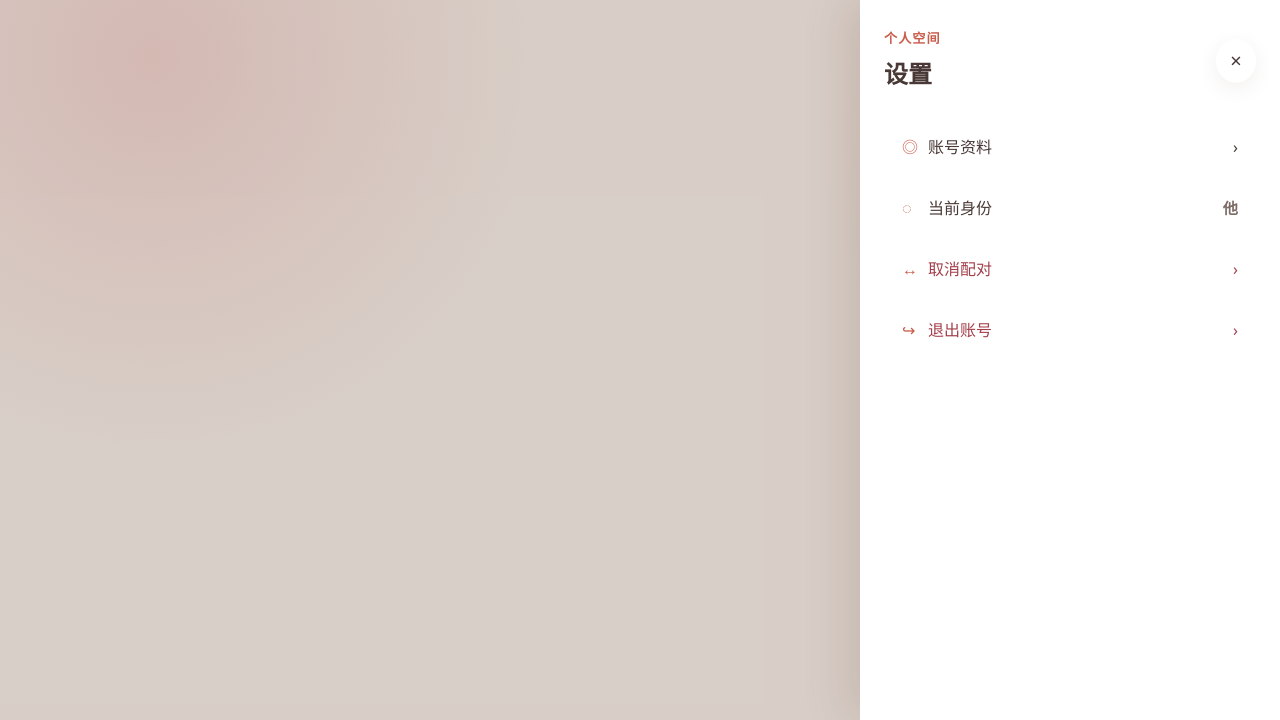
Test case: updates the display name through the account editor
This screenshot has width=1280, height=720.
Click the button "◎ 账号资料 ›": (960, 147) 884,117 -> 1256,177
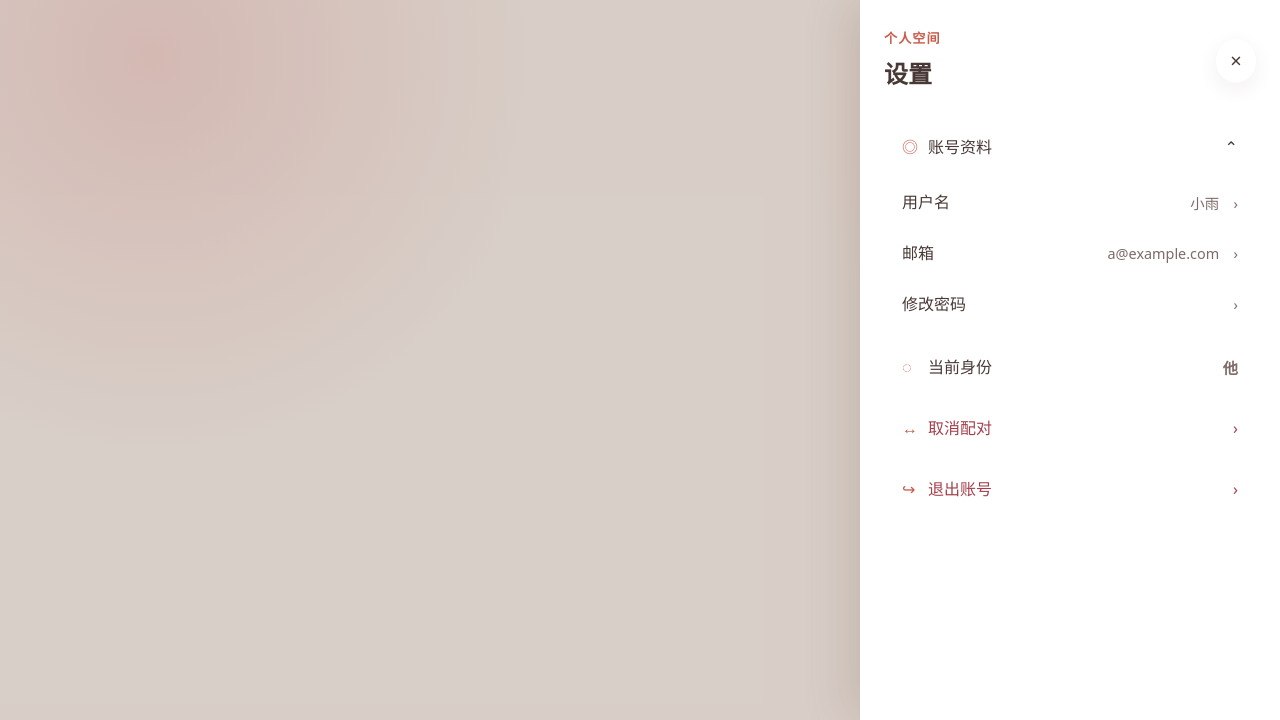
Click the button "用户名 小雨 ›": (926, 202) 896,178 -> 1244,228
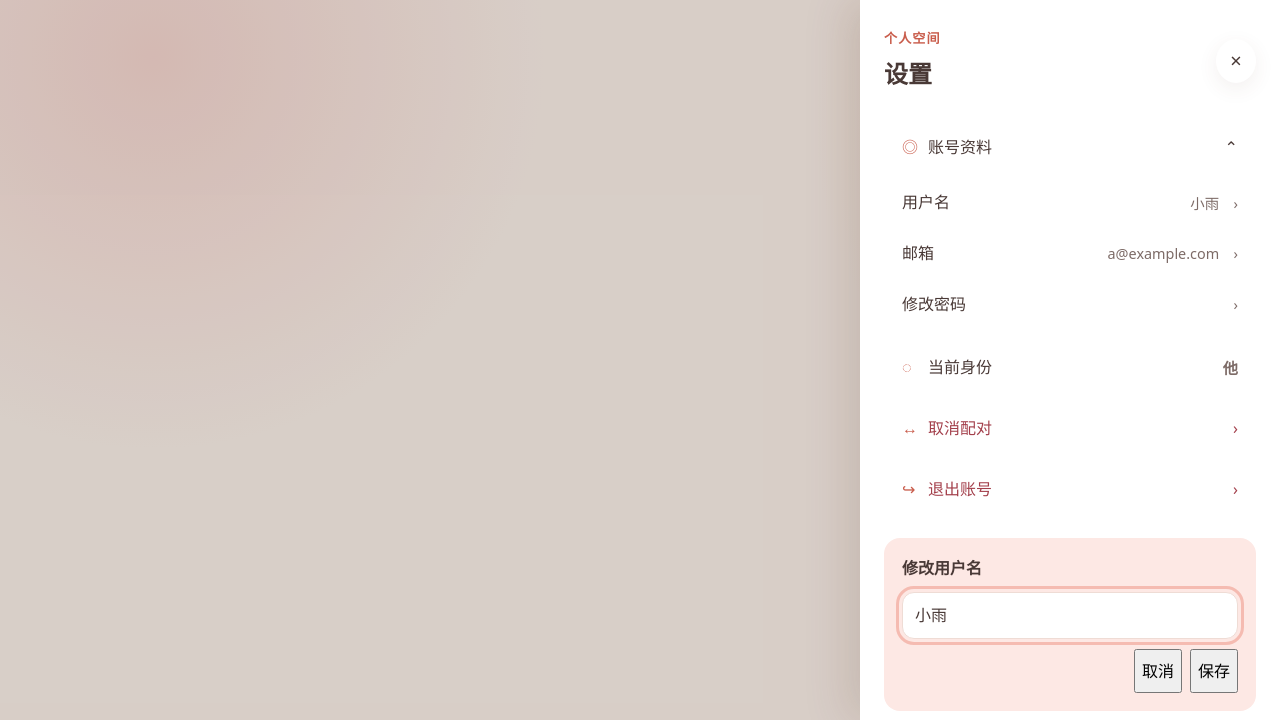
Replace the text in the field with "新名字": (1070, 616) 902,592 -> 1238,639
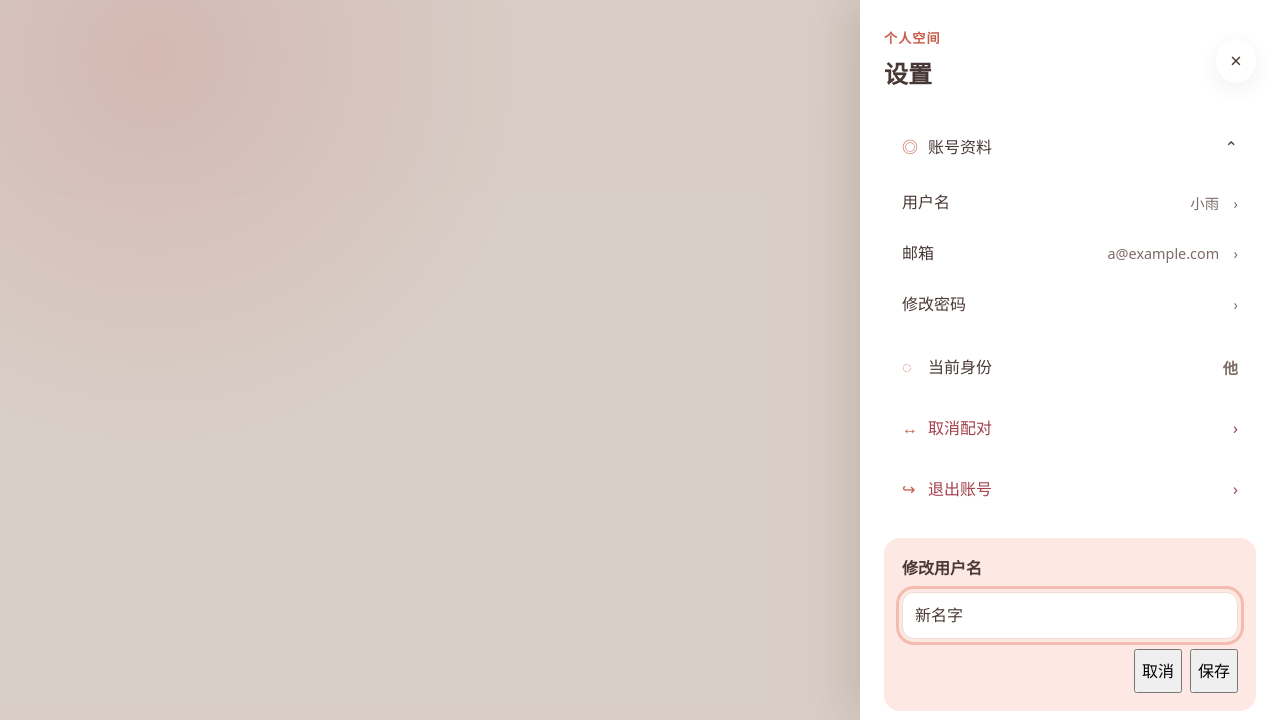
Click the button "保存": (1214, 671) 1190,649 -> 1238,693
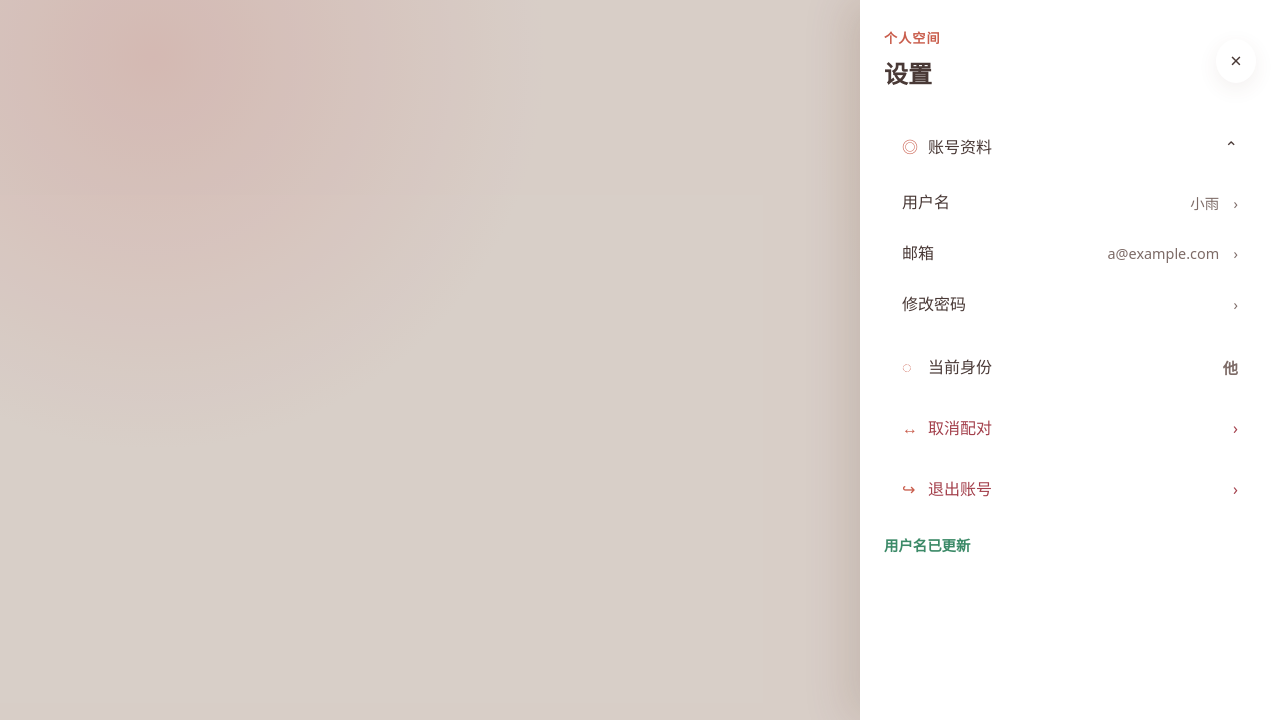
Now the message reads "用户名已更新", box 884,536 -> 970,555
